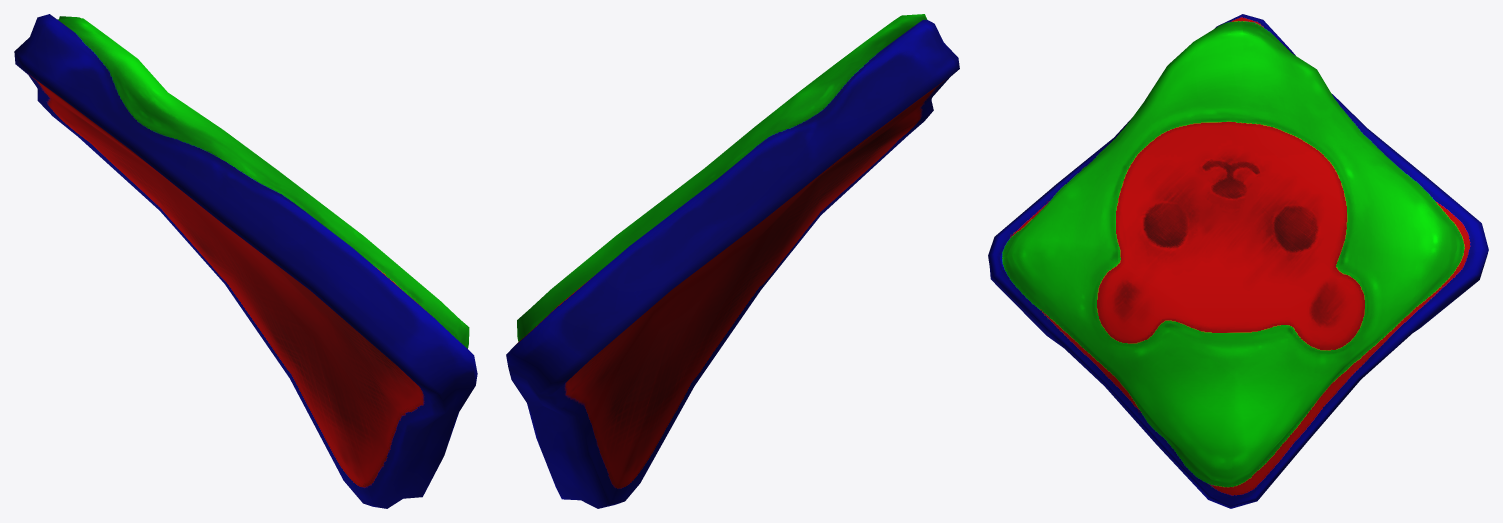
The picture shows the model from 3 angles, left to right: view 1: azimuth 30°, elevation 25°; view 2: azimuth 150°, elevation 25°; view 3: azimuth 270°, elevation 25°; orthographic projection. The views are drawn at different scales.
Parts seen in each view (by area): view 1: C1269; view 2: C1269; view 3: C1269.
Boxes of the visible parts, x1,y1,x2,y2 form: C1269: [14, 14, 477, 508]; C1269: [506, 14, 959, 508]; C1269: [988, 14, 1488, 508].
Bounding box in the file's own units: 0.1627 × 0.2215 × 0.2645.
